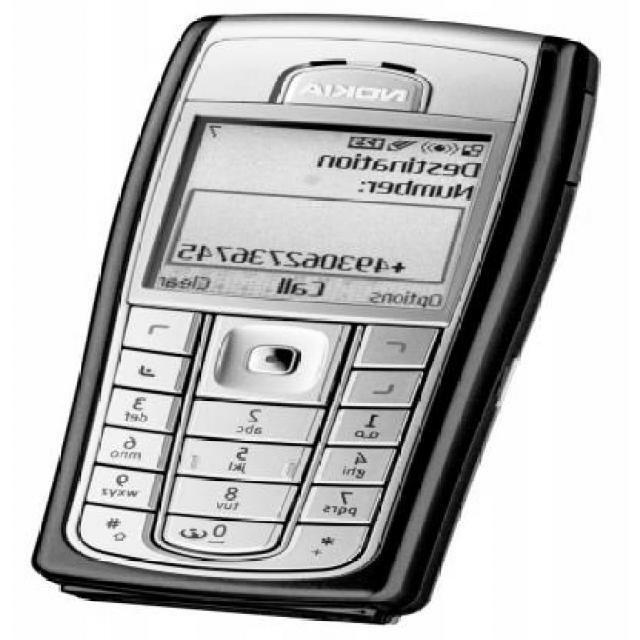fake: (43, 12, 606, 640)
